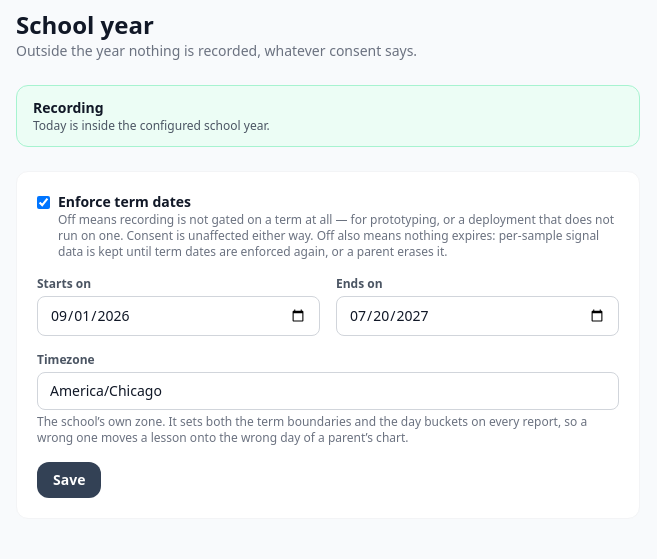
it: the Saved message › clears when a date is edited too, not only the timezone
Expected: the field labelled "Timezone" is shown, x1=37 y1=372 x2=619 y2=410
Click the button "Save" at (69, 480), box x1=37 y1=462 x2=101 y2=498
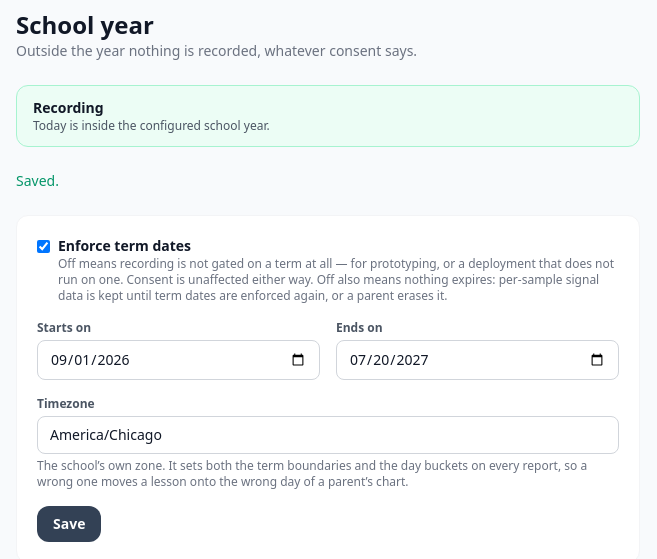
Expected: the text "Saved." is shown, x1=16 y1=171 x2=59 y2=190
Clear the date field labelled "Starts on" at (178, 360), box x1=37 y1=340 x2=320 y2=380
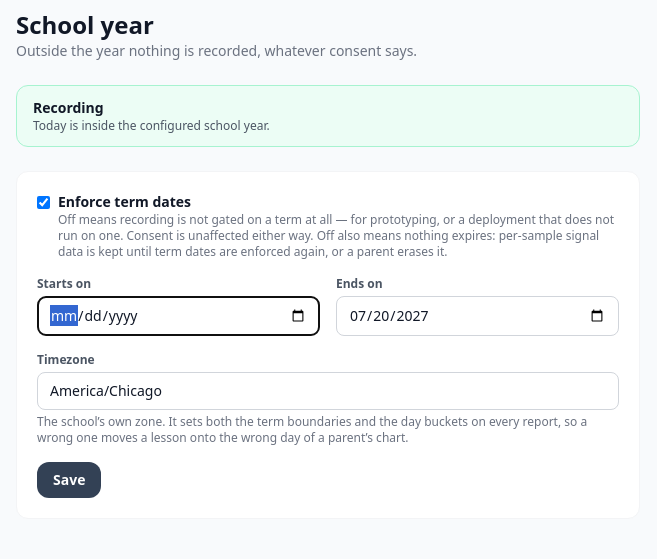
Expected: the text "Saved." is gone
